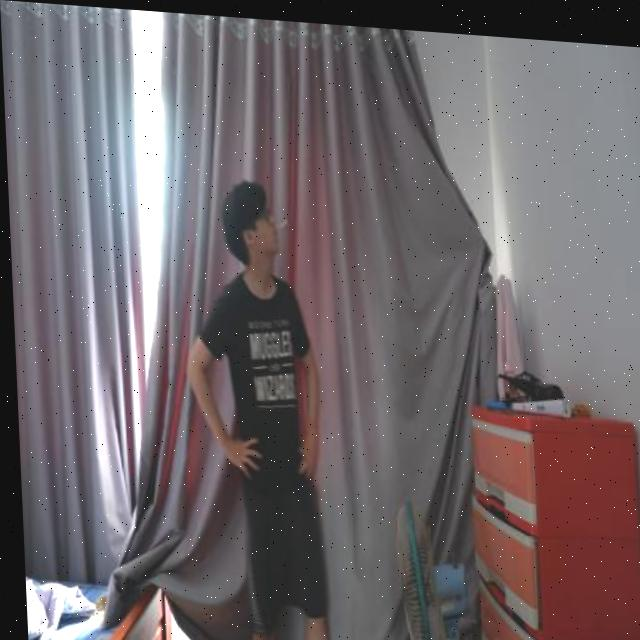cigarette: (274, 214, 286, 228)
